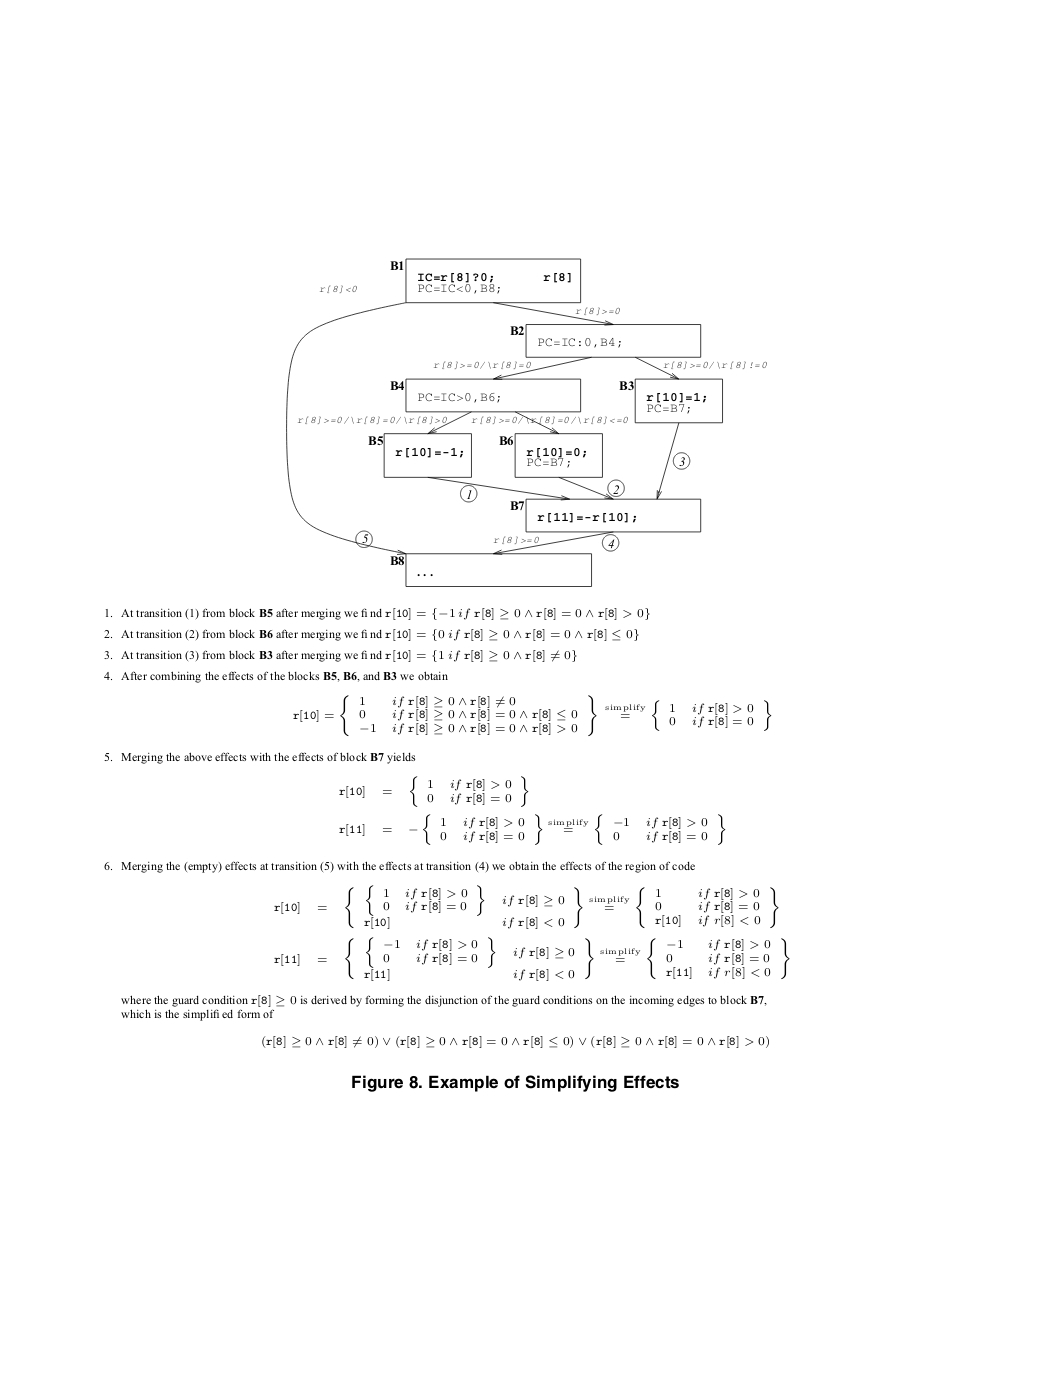figure: (286, 257, 766, 587)
formula: (274, 935, 789, 981), (274, 884, 778, 929), (293, 694, 771, 736), (339, 812, 726, 845), (262, 1035, 768, 1048), (339, 775, 528, 807)
